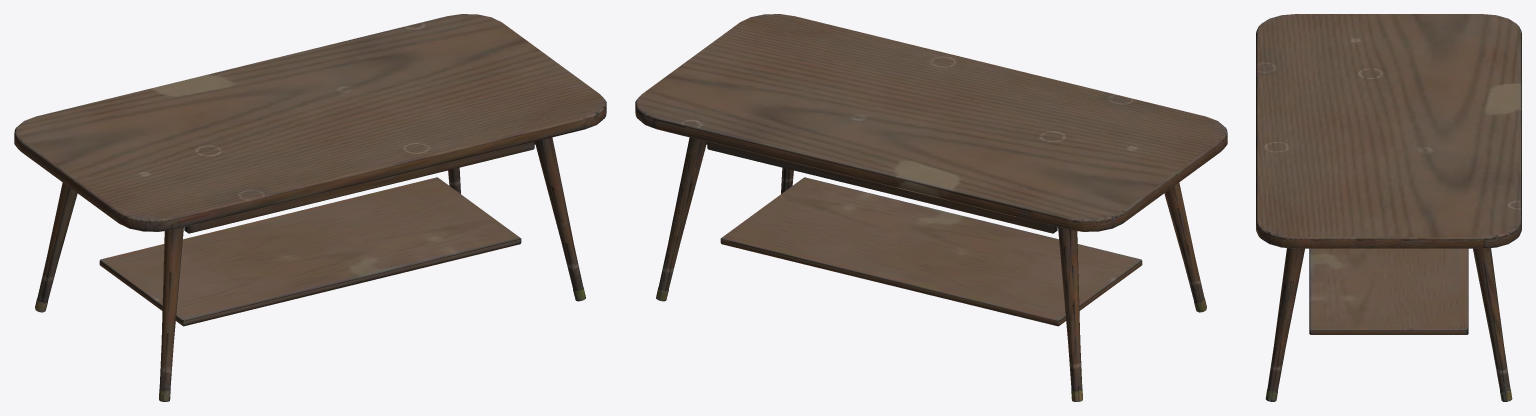
The model's file is furniture_table_coffee.glb.
The picture shows the model from 3 angles, left to right: view 1: azimuth 30°, elevation 25°; view 2: azimuth 150°, elevation 25°; view 3: azimuth 270°, elevation 25°; orthographic projection. The views are drawn at different scales.
Visible parts, largest first — view 1: furniture_table_coffee; view 2: furniture_table_coffee; view 3: furniture_table_coffee.
Part boxes in pixels (x1,y1,x2,y2): furniture_table_coffee: [14, 14, 606, 401]; furniture_table_coffee: [635, 14, 1227, 401]; furniture_table_coffee: [1256, 14, 1521, 401].
Size of the model in its own units: 1.2 by 0.4473 by 0.6.
Materials: 1 (1 with a texture image).
